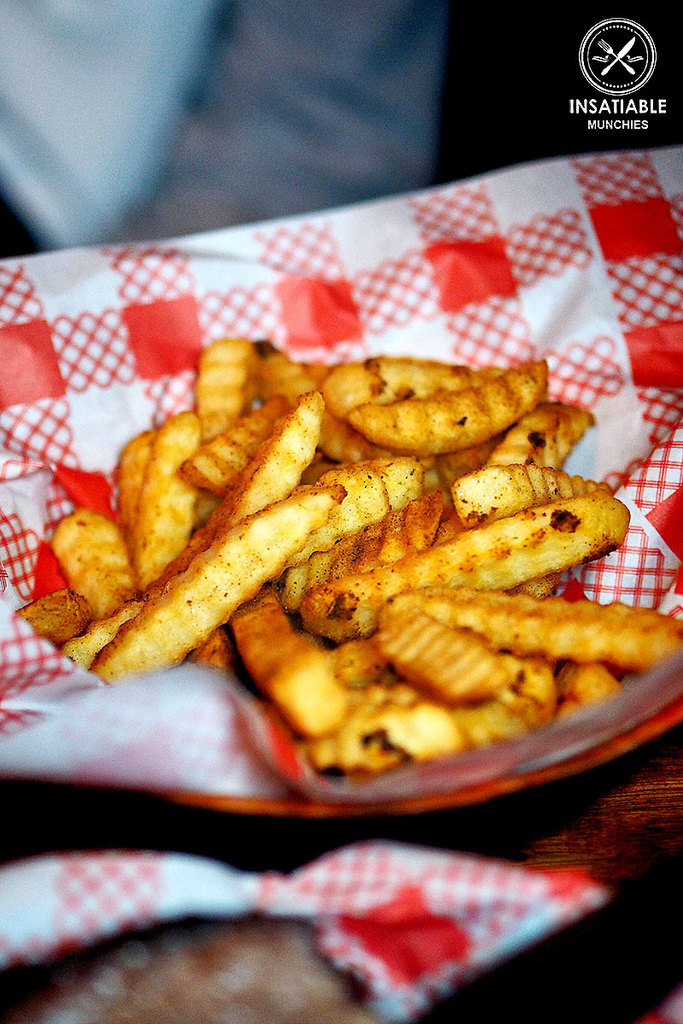French fries: (49, 319, 669, 749)
